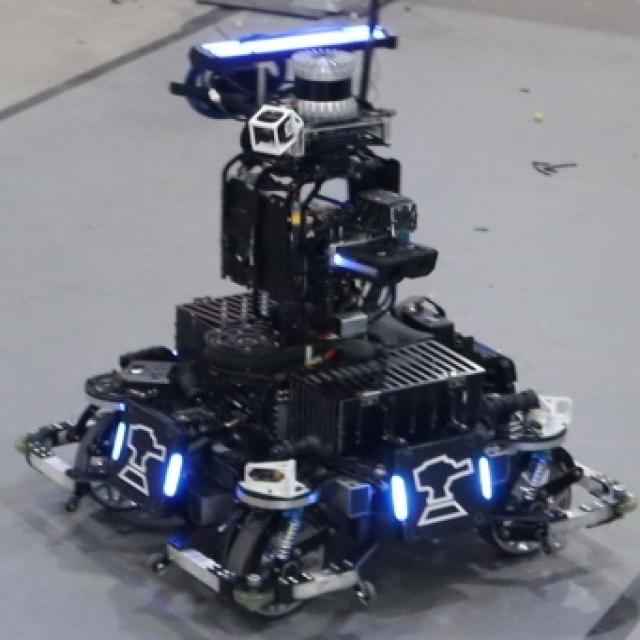Bs: (388, 451, 496, 526), (109, 406, 184, 498)
